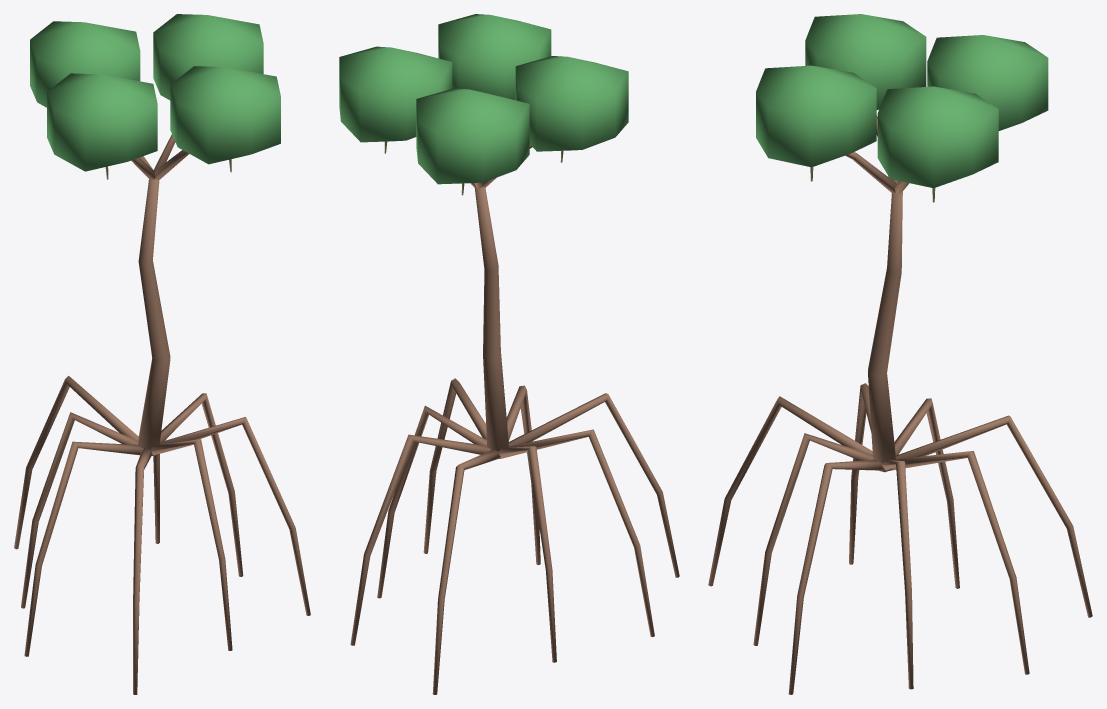
Rendered from aquatic_mangrove.glb.
The picture shows the model from 3 angles, left to right: view 1: azimuth 30°, elevation 25°; view 2: azimuth 150°, elevation 25°; view 3: azimuth 270°, elevation 25°; orthographic projection. The views are drawn at different scales.
Visible parts, largest first — view 1: Flora_Mangrove; view 2: Flora_Mangrove; view 3: Flora_Mangrove.
Part boxes in pixels (x1,y1,x2,y2): Flora_Mangrove: (14,14,310,694); Flora_Mangrove: (339,14,679,694); Flora_Mangrove: (708,14,1092,694).
Bounding box in the file's own units: 2.16 × 4.2 × 2.48.
